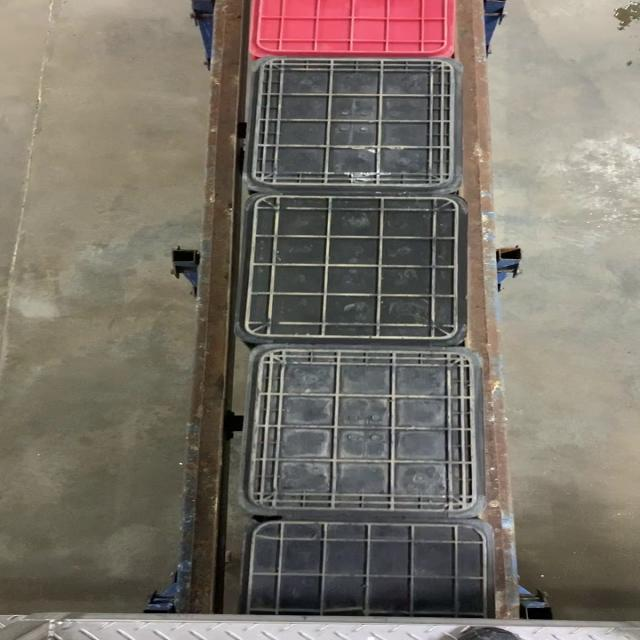Box: (238, 343, 486, 518), (236, 194, 466, 345), (242, 54, 466, 194)
